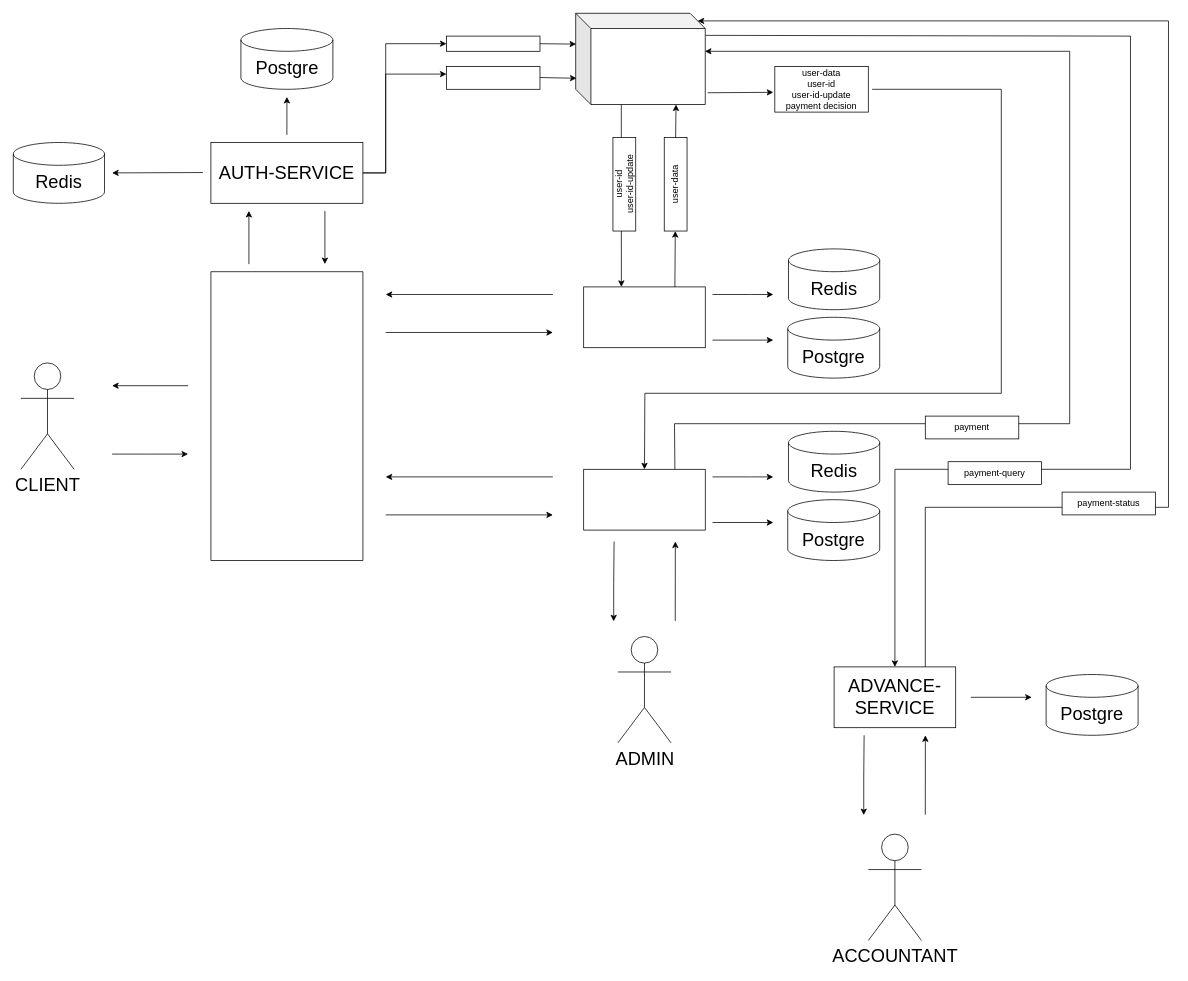
This 1188x981 diagram has some shape labels left out. Here are the shapes that lost their labels. From the top down, the centre of each, then its label:
At (x=493, y=43): "user-id".
At (x=640, y=58): "KAFKA BROKER".
At (x=493, y=77): "user-id-update".
At (x=644, y=317): "PASSPORT-SERVICE".
At (x=286, y=415): "GATEWAY".
At (x=644, y=499): "BOOKING -SERVICE".
